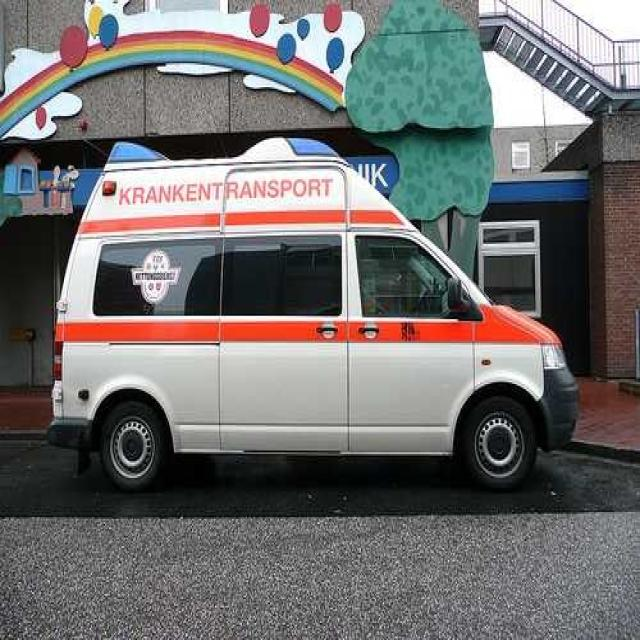ambulance: (44, 134, 593, 496)
